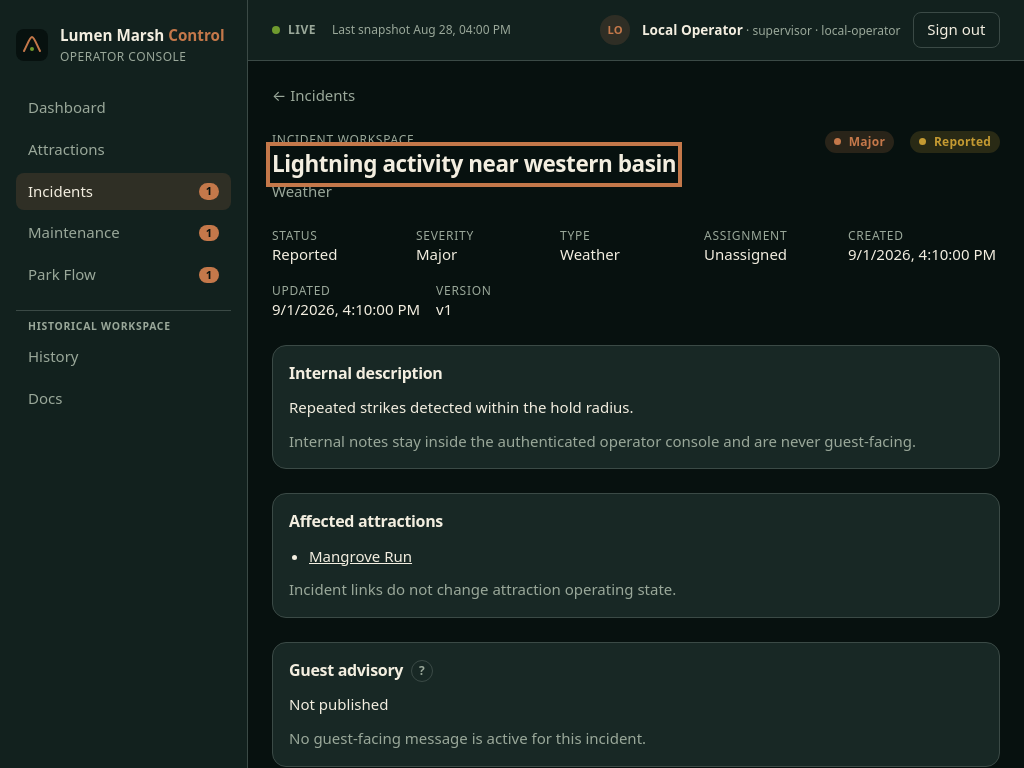
Test case: IncidentDetailPage › returns to the previous filtered list when navigating back
Expected: the heading "Lightning activity near western basin" is shown, [272, 148, 676, 181]
Click the button "← Incidents" at (314, 96), box [272, 85, 355, 107]
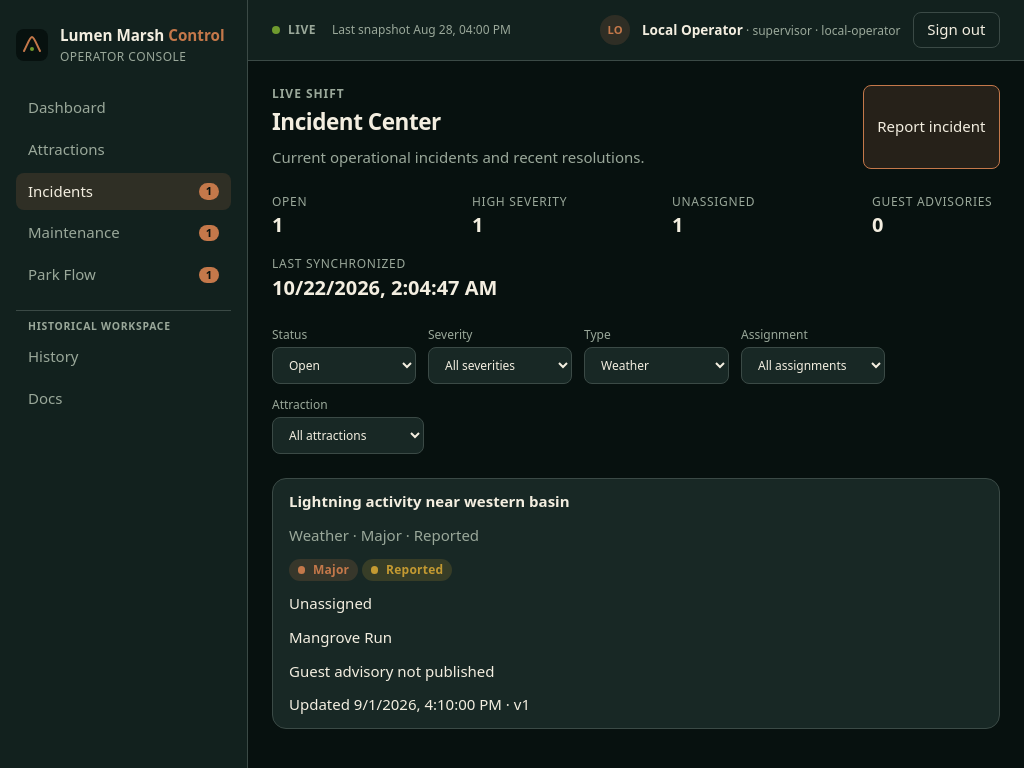
Now the heading "Incident Center" is shown, box [272, 106, 441, 137]
Now the dropdown labelled "Type" shows "Weather", box [584, 347, 729, 384]
Now the link "Lightning activity" is shown, box [289, 491, 570, 714]
